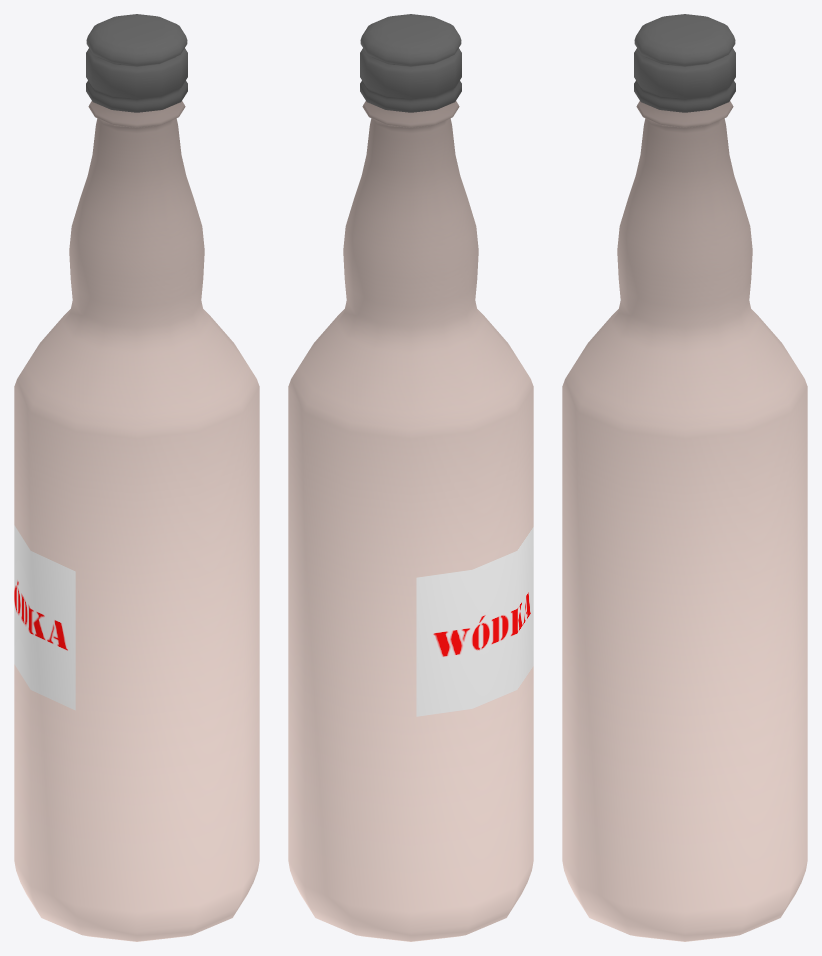
Rendered from Wodka.gltf.
3 renders of one model, left to right at view 1: azimuth 30°, elevation 25°; view 2: azimuth 150°, elevation 25°; view 3: azimuth 270°, elevation 25°, orthographic.
Parts seen in each view (by area): view 1: Wodka; view 2: Wodka; view 3: Wodka.
Boxes of the visible parts, x1=… form: Wodka: x1=14, y1=14, x2=259, y2=941; Wodka: x1=288, y1=14, x2=533, y2=941; Wodka: x1=562, y1=14, x2=807, y2=941.
Bounding box in the file's own units: 0.4681 × 1.84 × 0.4681.
2 materials, 2 textured.
